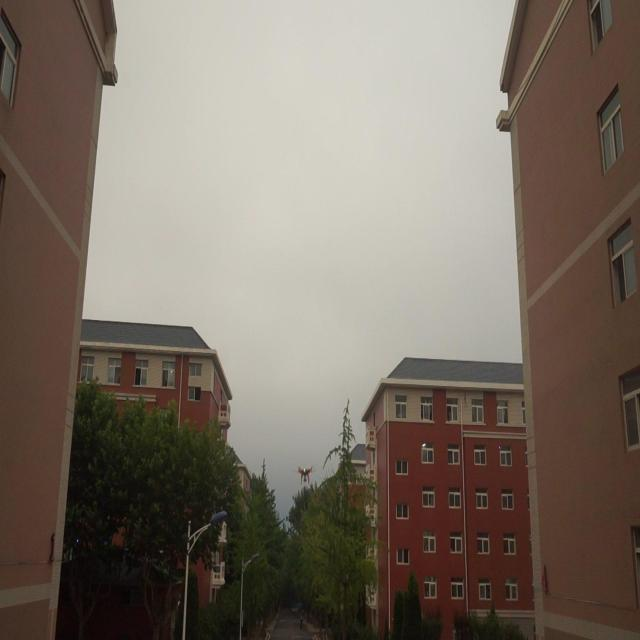drone: (298, 464, 314, 485)
